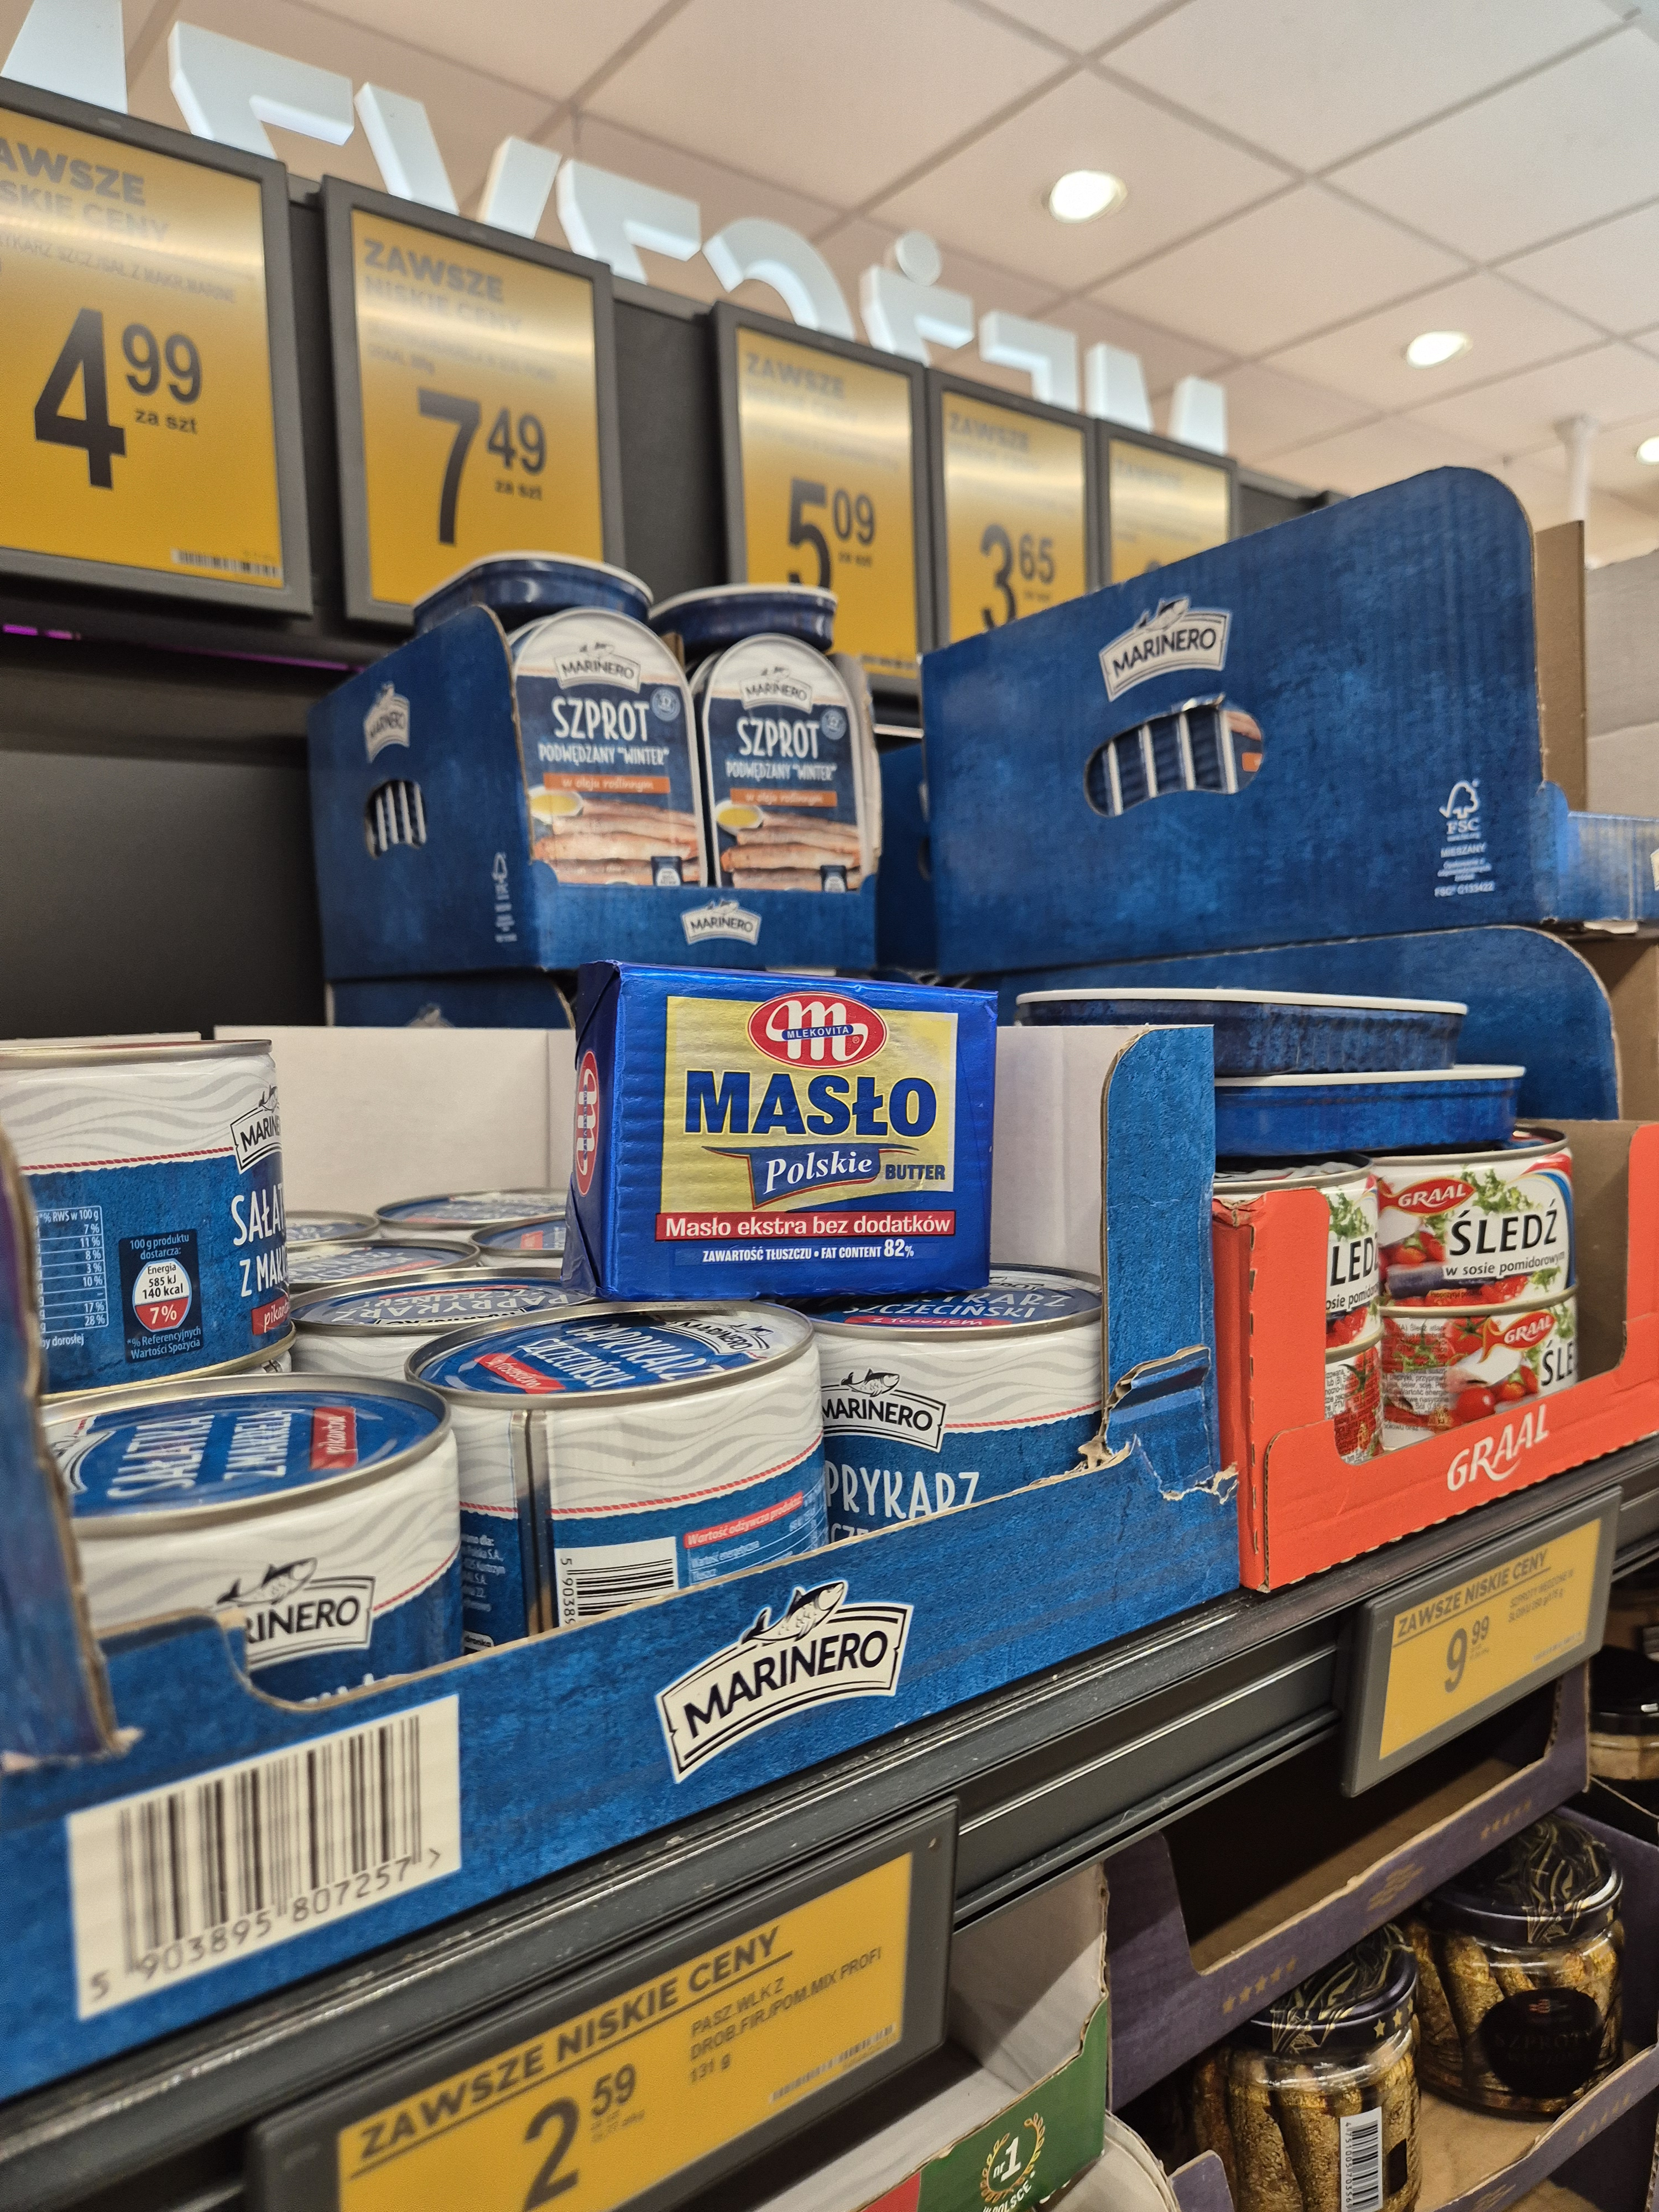Butter: (573, 927, 1019, 1308)
